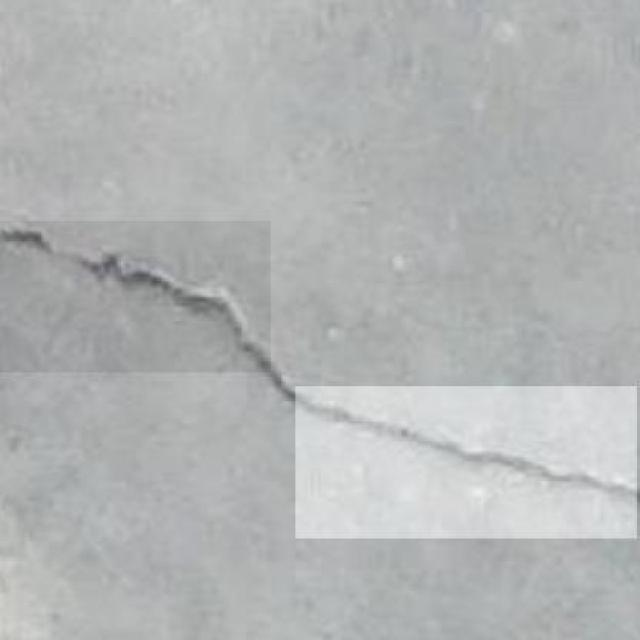Crack: (0, 202, 273, 372), (288, 390, 640, 508)
